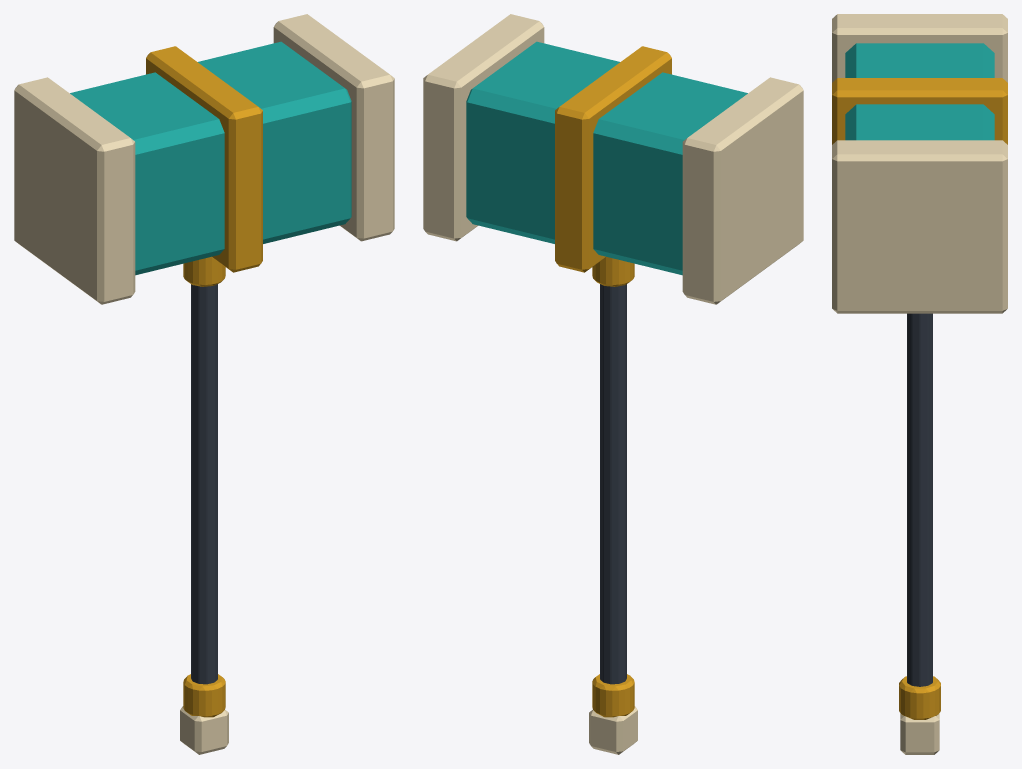
Rendered from weapon_brute-DFr5ynj3.glb.
3 renders of one model, left to right at view 1: azimuth 30°, elevation 25°; view 2: azimuth 150°, elevation 25°; view 3: azimuth 270°, elevation 25°, orthographic.
Parts seen in each view (by area): view 1: weapon_brute; view 2: weapon_brute; view 3: weapon_brute.
Boxes of the visible parts, <box> form: weapon_brute: <box>14,14,394,754</box>; weapon_brute: <box>423,14,803,754</box>; weapon_brute: <box>832,14,1007,754</box>.
Size of the model in its own units: 0.78 by 1.67 by 0.4.
